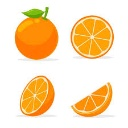orange: (70, 15, 115, 61), (16, 74, 56, 118), (68, 81, 114, 118)
